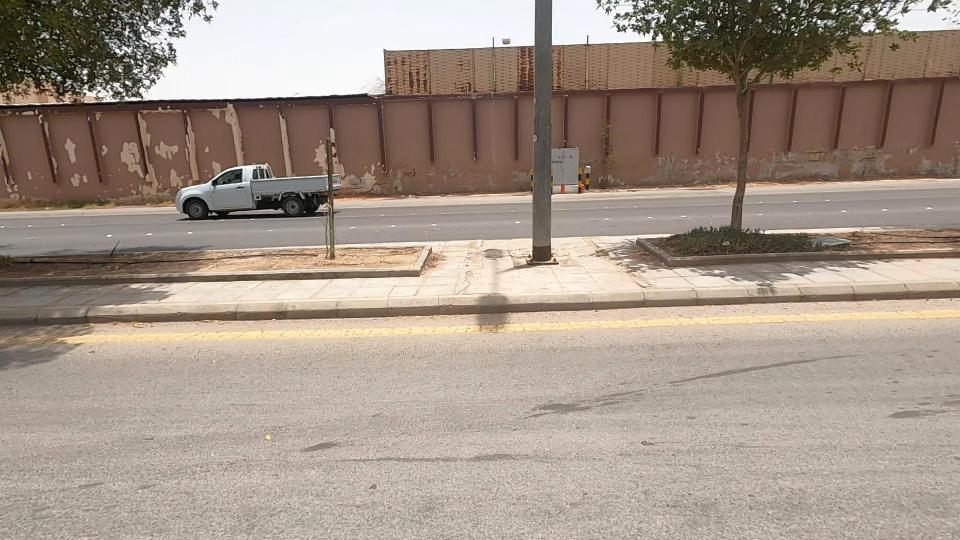CLUTTER_SIDEWALK: (0, 204, 497, 314)
GARBAGE: (769, 210, 882, 274)
